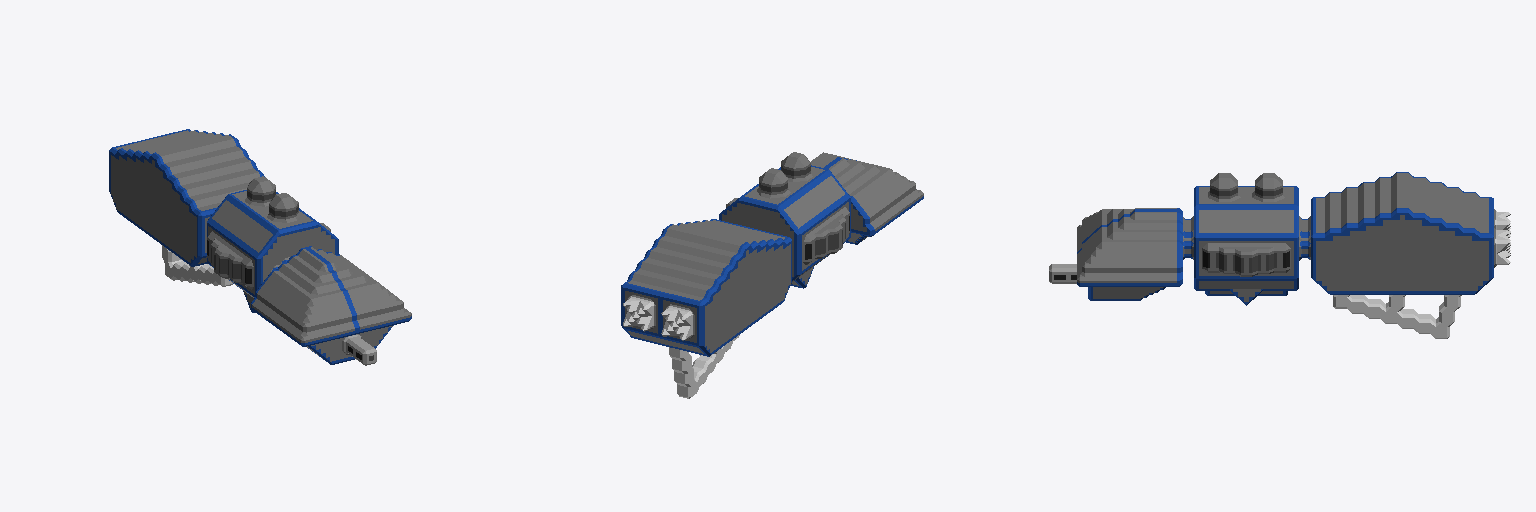
3 renders of one model, left to right at view 1: azimuth 30°, elevation 25°; view 2: azimuth 150°, elevation 25°; view 3: azimuth 270°, elevation 25°, orthographic.
Size of the model in its own units: 23 by 32 by 83.
1 materials, 1 textured.